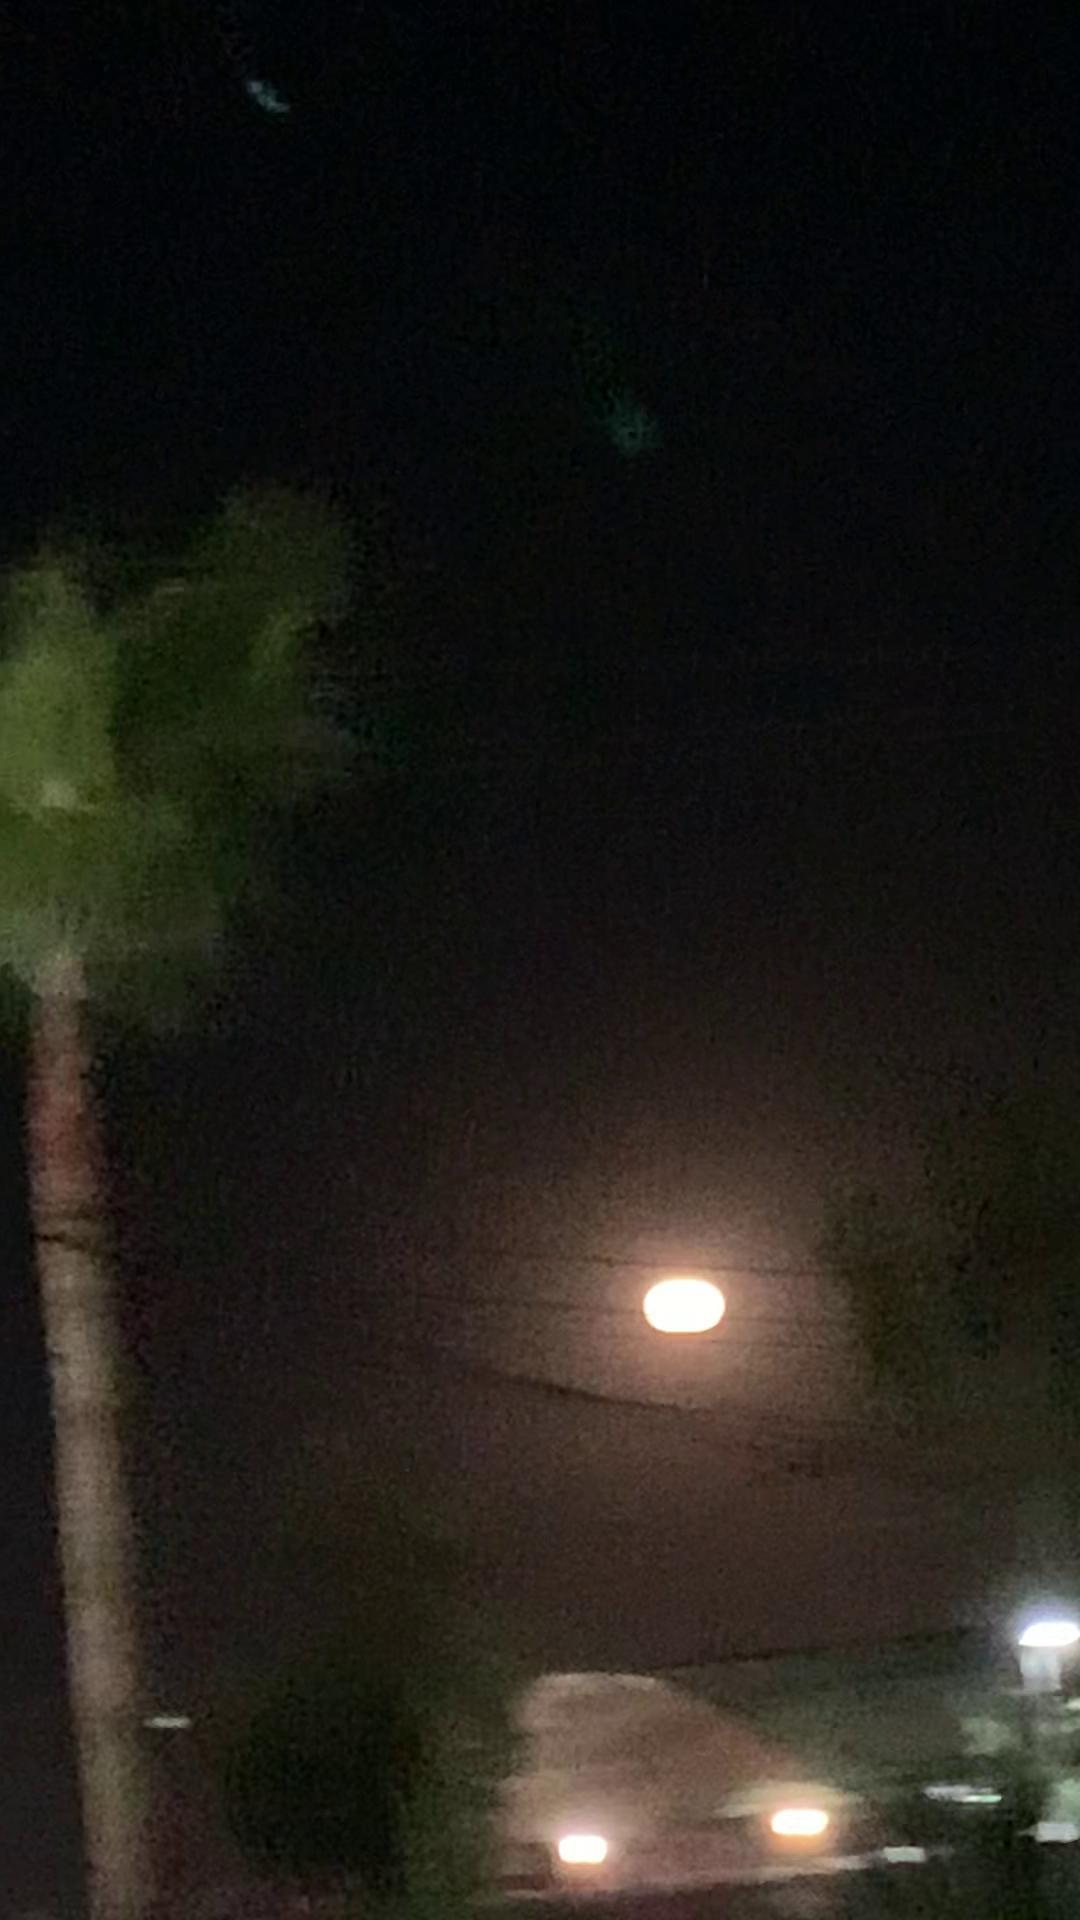moon: (630, 1258, 728, 1340)
